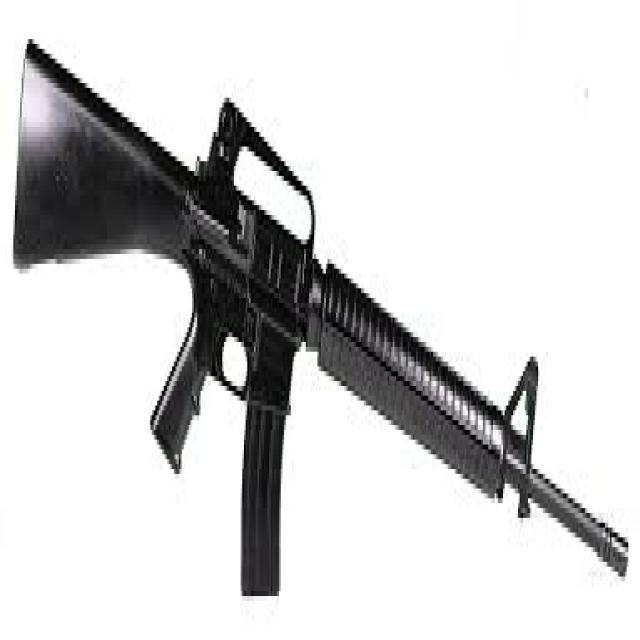rifle: (12, 30, 635, 617)
